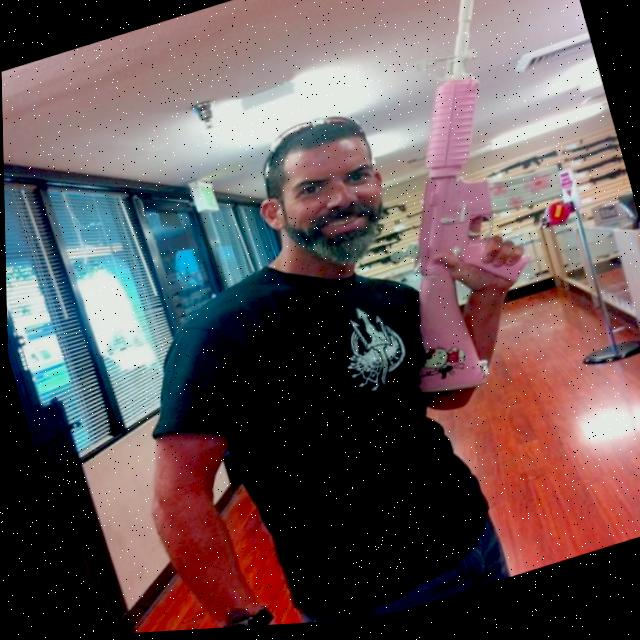firearm: (306, 0, 606, 413)
